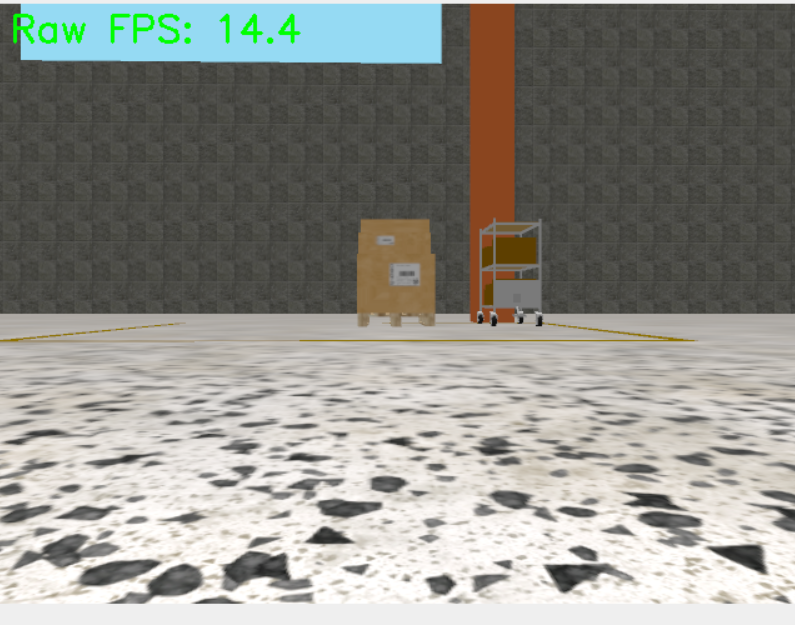barcode: (391, 263, 420, 287)
